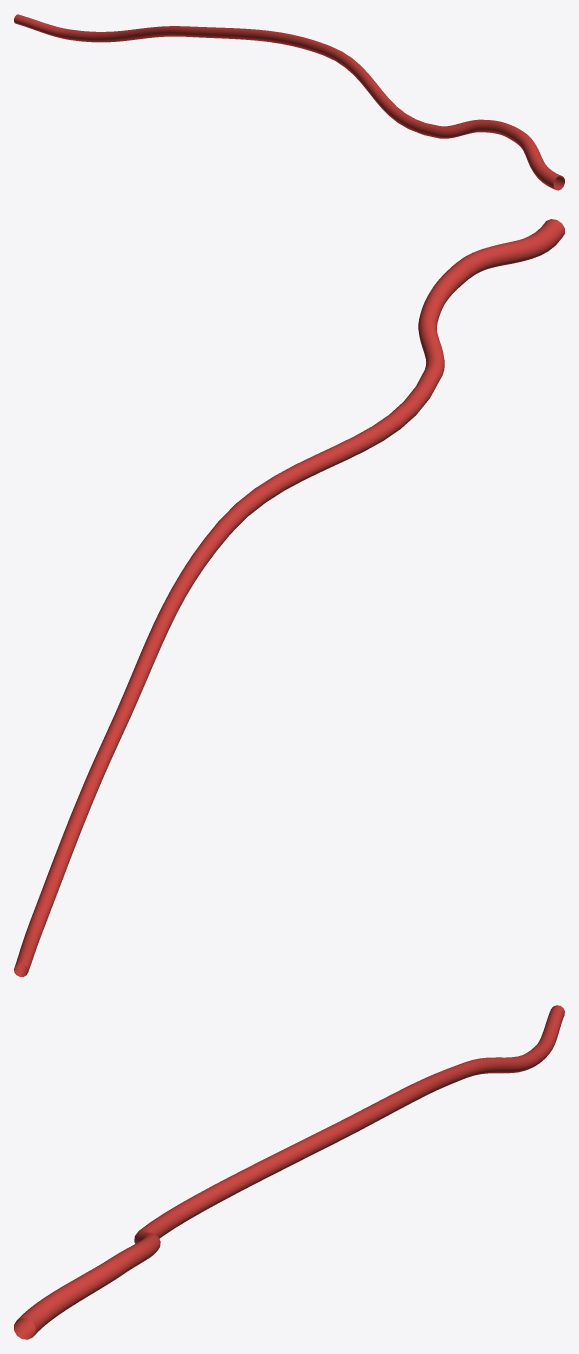
3 views of the same model, one above another, from view 1: azimuth 30°, elevation 25°; view 2: azimuth 150°, elevation 25°; view 3: azimuth 330°, elevation 25° (orthographic). The views are drawn at different scales.
Visible parts, largest first — view 1: 右侧尺动脉; view 2: 右侧尺动脉; view 3: 右侧尺动脉.
Part boxes in pixels (<box>): 右侧尺动脉: <box>14,14,564,190</box>; 右侧尺动脉: <box>14,219,564,976</box>; 右侧尺动脉: <box>14,1005,564,1339</box>.
Size of the model in its own units: 0.05 by 0.0661 by 0.3404.
